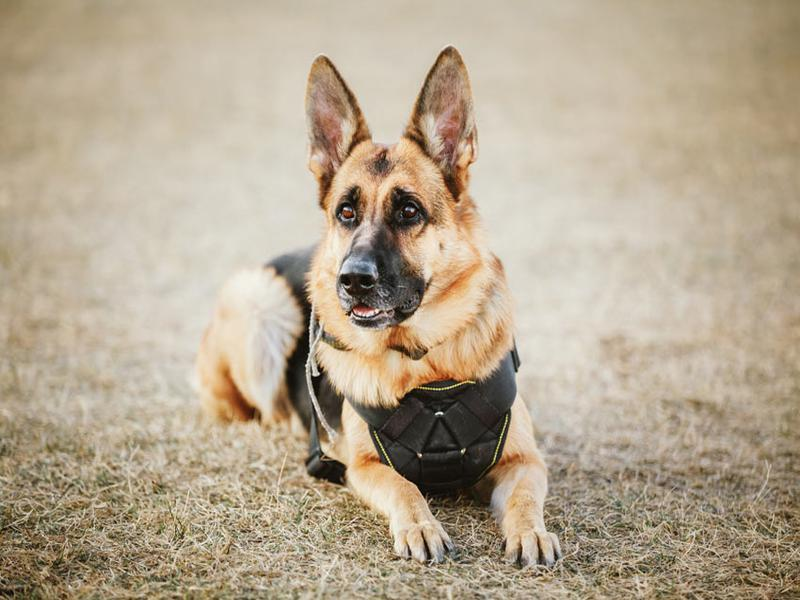dog_down: (188, 44, 568, 573)
